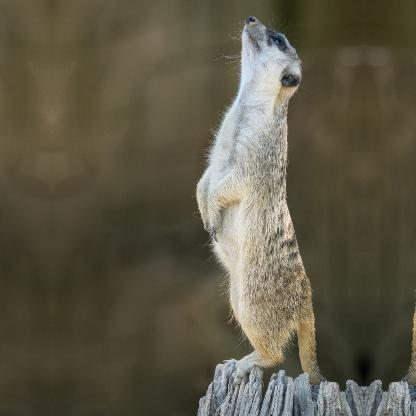Squirrel: (194, 15, 326, 383)
